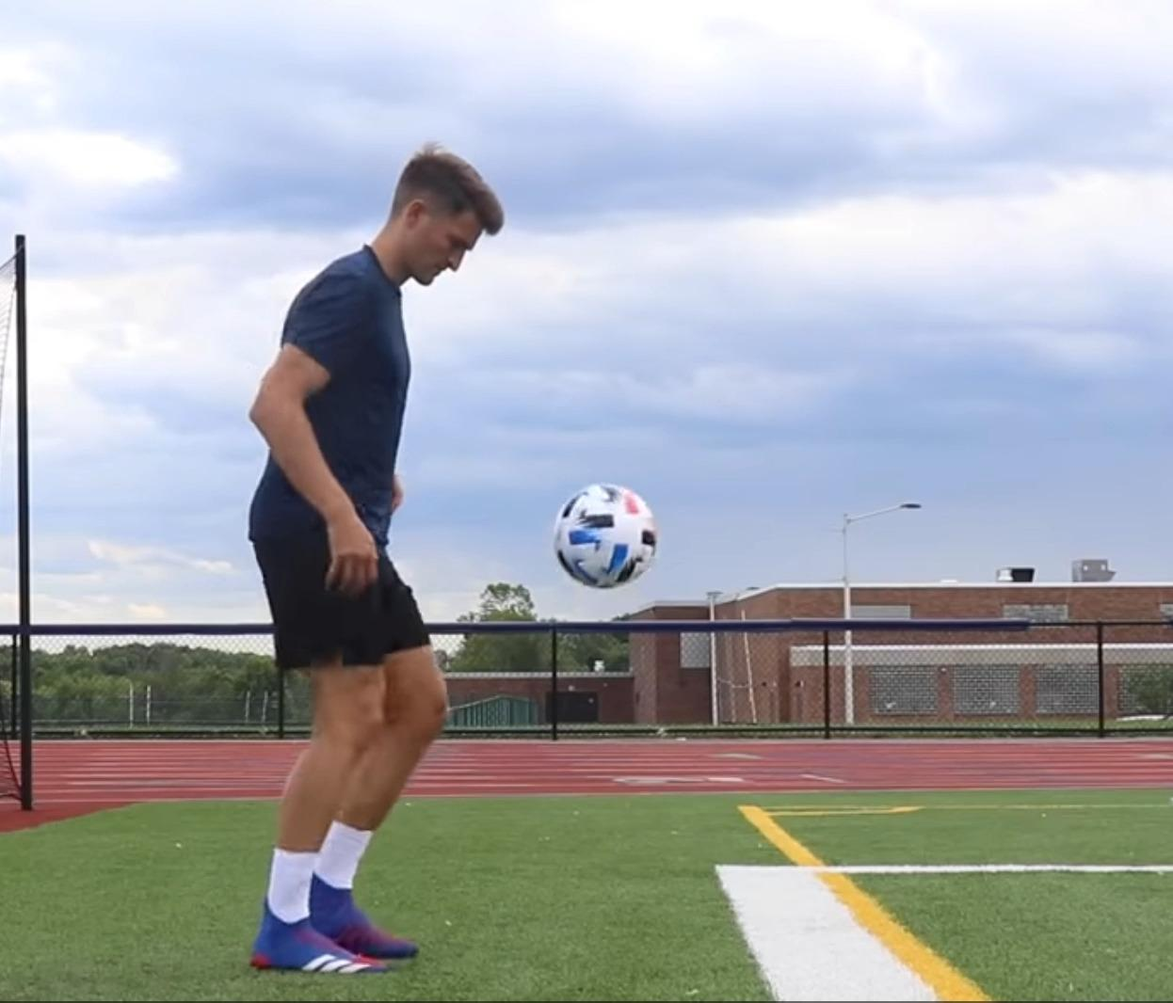ball: (550, 482, 661, 588)
foot: (302, 869, 426, 960), (242, 898, 376, 980)
person: (238, 151, 503, 977)
